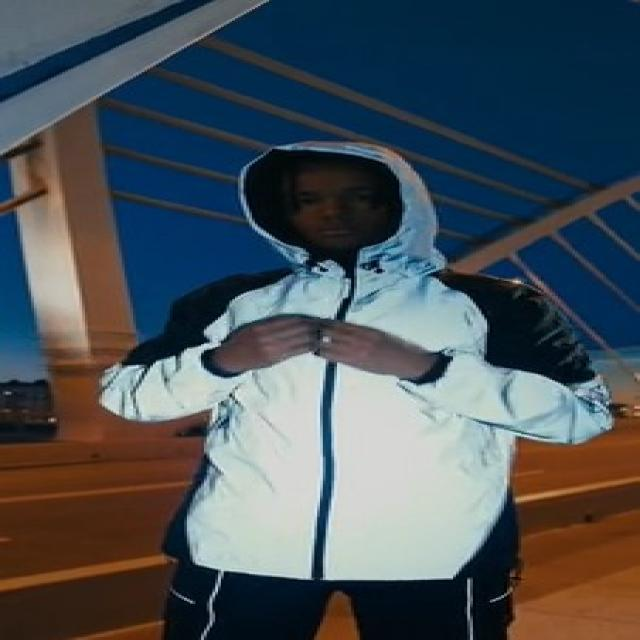Jacket_Wearer: (119, 266, 610, 553)
Person: (135, 135, 618, 640)
